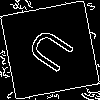U: (25, 25, 84, 81)
